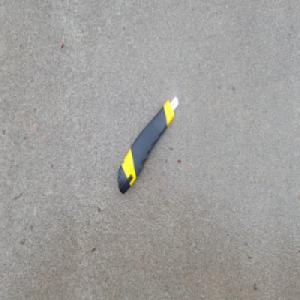Cutter: (116, 93, 181, 196)
